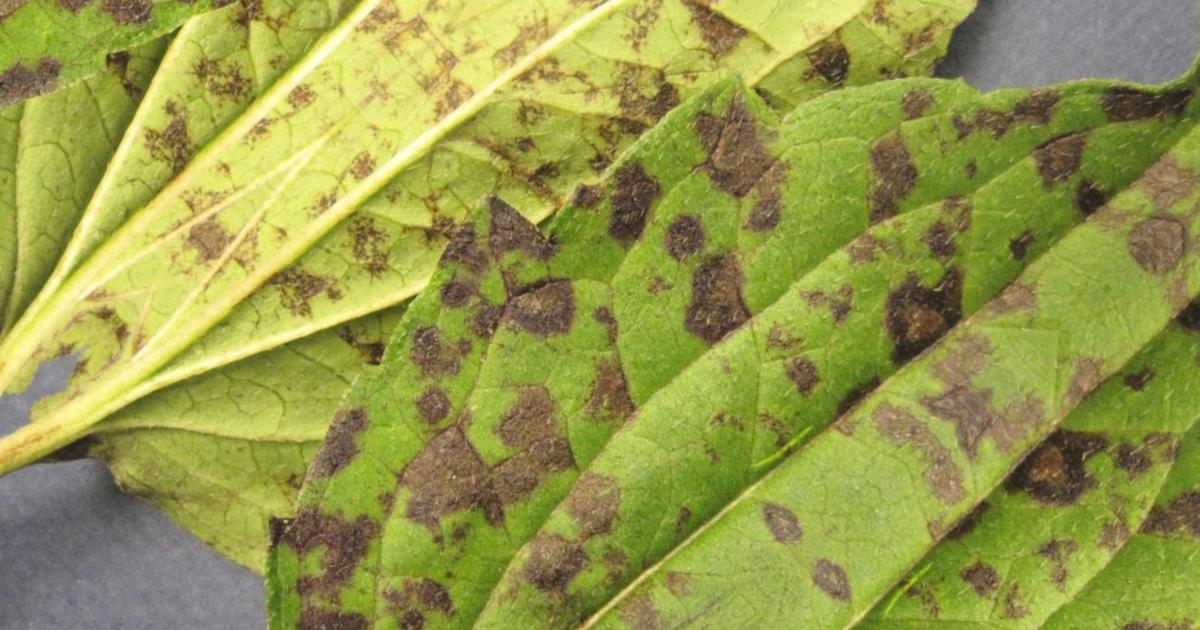Tomato Septoria leaf spot: (87, 0, 1200, 630), (9, 0, 1084, 630)
